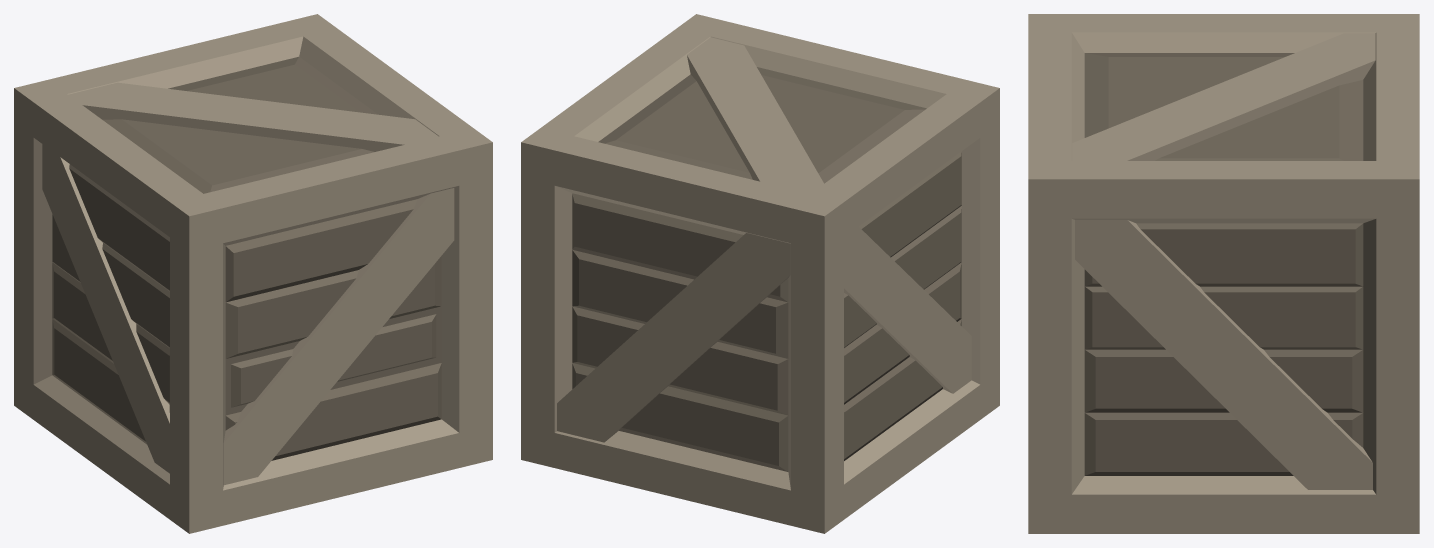
The model's file is crate.fbx.
3 views of the same model, side by side, from view 1: azimuth 30°, elevation 25°; view 2: azimuth 150°, elevation 25°; view 3: azimuth 270°, elevation 25° (orthographic). The views are drawn at different scales.
Visible parts, largest first — view 1: crate; view 2: crate; view 3: crate.
Part boxes in pixels (x1,y1,x2,y2): crate: (14,14,492,533); crate: (521,14,999,533); crate: (1028,14,1419,533).
Size of the model in its own units: 0.7245 by 0.7246 by 0.7245.
